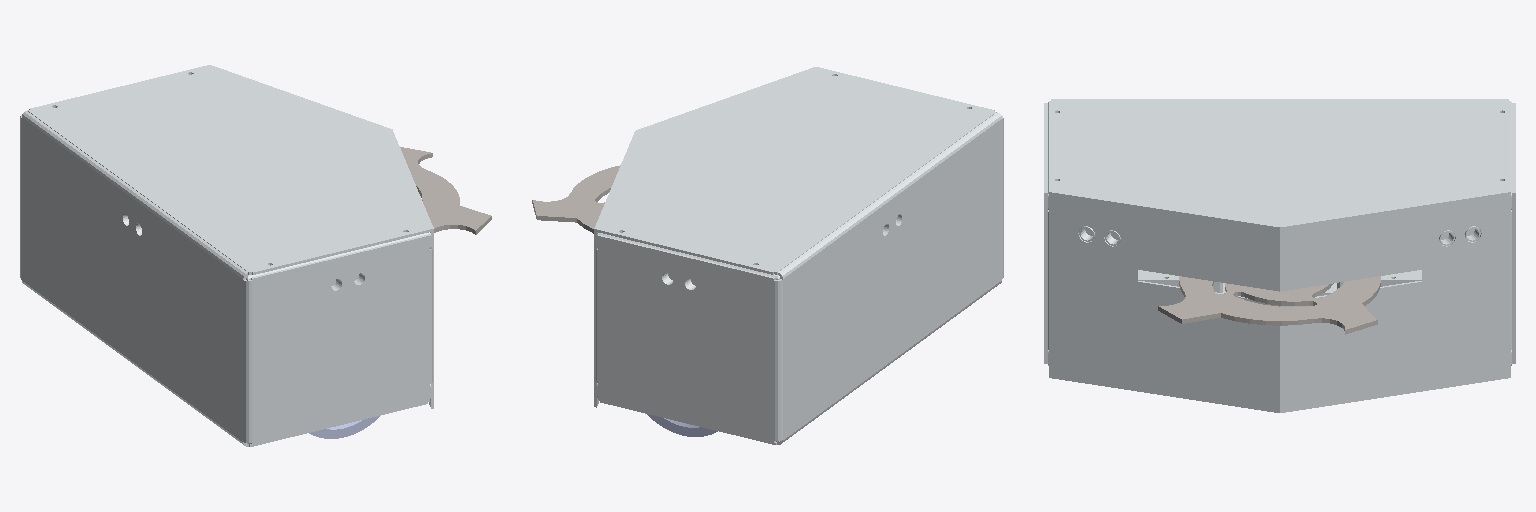
The robot description file, URDF, robot "r6_2020":
<?xml version="1.0" encoding="utf-8"?>
<!-- This URDF was automatically created by SolidWorks to URDF Exporter! Originally created by [author] ([email redacted]) 
     Commit Version: 1.6.0-1-g15f4949  Build Version: 1.6.7594.29634
     For more information, please see http://wiki.ros.org/sw_urdf_exporter -->
<robot
  name="r6_2020">
  <link
    name="base_link">
    <inertial>
      <origin
        xyz="0.035278 -9.6512E-07 0.10376"
        rpy="0 0 0" />
      <mass
        value="9.337" />
      <inertia
        ixx="0.1153"
        ixy="-4.5578E-07"
        ixz="0.011207"
        iyy="0.053236"
        iyz="-1.3817E-07"
        izz="0.1317" />
    </inertial>
    <visual>
      <origin
        xyz="0 0 0"
        rpy="0 0 0" />
      <geometry>
        <mesh
          filename="package://r6_2020/meshes/base_link.STL" />
      </geometry>
      <material
        name="">
        <color
          rgba="0.89804 0.91765 0.92941 1" />
      </material>
    </visual>
    <collision>
      <origin
        xyz="0 0 0"
        rpy="0 0 0" />
      <geometry>
        <mesh
          filename="package://r6_2020/meshes/base_link.STL" />
      </geometry>
    </collision>
  </link>
  <link
    name="wheel_left_link">
    <inertial>
      <origin
        xyz="0 -0.00080113 0"
        rpy="0 0 0" />
      <mass
        value="0.18293" />
      <inertia
        ixx="0.00023794"
        ixy="-9.603E-20"
        ixz="7.0834E-21"
        iyy="0.00047128"
        iyz="-3.4036E-20"
        izz="0.00023794" />
    </inertial>
    <visual>
      <origin
        xyz="0 0 0"
        rpy="0 0 0" />
      <geometry>
        <mesh
          filename="package://r6_2020/meshes/wheel_left_link.STL" />
      </geometry>
      <material
        name="">
        <color
          rgba="0.79216 0.81961 0.93333 1" />
      </material>
    </visual>
    <collision>
      <origin
        xyz="0 0 0"
        rpy="0 0 0" />
      <geometry>
        <mesh
          filename="package://r6_2020/meshes/wheel_left_link.STL" />
      </geometry>
    </collision>
  </link>
  <joint
    name="wheel_left_joint"
    type="continuous">
    <origin
      xyz="0.0185 0.19913 0.07006"
      rpy="0 0 0" />
    <parent
      link="base_link" />
    <child
      link="wheel_left_link" />
    <axis
      xyz="0 1 0" />
  </joint>
  <link
    name="wheel_right_link">
    <inertial>
      <origin
        xyz="0 0.00080113 -1.3878E-17"
        rpy="0 0 0" />
      <mass
        value="0.18293" />
      <inertia
        ixx="0.00023794"
        ixy="-5.2491E-21"
        ixz="-2.4128E-22"
        iyy="0.00047128"
        iyz="-3.4218E-19"
        izz="0.00023794" />
    </inertial>
    <visual>
      <origin
        xyz="0 0 0"
        rpy="0 0 0" />
      <geometry>
        <mesh
          filename="package://r6_2020/meshes/wheel_right_link.STL" />
      </geometry>
      <material
        name="">
        <color
          rgba="0.79216 0.81961 0.93333 1" />
      </material>
    </visual>
    <collision>
      <origin
        xyz="0 0 0"
        rpy="0 0 0" />
      <geometry>
        <mesh
          filename="package://r6_2020/meshes/wheel_right_link.STL" />
      </geometry>
    </collision>
  </link>
  <joint
    name="wheel_right_joint"
    type="continuous">
    <origin
      xyz="0.01846 -0.19913 0.07"
      rpy="0 0 0" />
    <parent
      link="base_link" />
    <child
      link="wheel_right_link" />
    <axis
      xyz="0 1 0" />
  </joint>
  <link
    name="weapon_link">
    <inertial>
      <origin
        xyz="-8.3267E-17 1.1967E-16 -0.0025"
        rpy="0 0 0" />
      <mass
        value="1.2786" />
      <inertia
        ixx="0.0043475"
        ixy="3.2022E-18"
        ixz="-1.1065E-18"
        iyy="0.0043475"
        iyz="-5.677E-20"
        izz="0.0086897" />
    </inertial>
    <visual>
      <origin
        xyz="0 0 0"
        rpy="0 0 0" />
      <geometry>
        <mesh
          filename="package://r6_2020/meshes/weapon_link.STL" />
      </geometry>
      <material
        name="">
        <color
          rgba="0.77647 0.75686 0.73725 1" />
      </material>
    </visual>
    <collision>
      <origin
        xyz="0 0 0"
        rpy="0 0 0" />
      <geometry>
        <mesh
          filename="package://r6_2020/meshes/weapon_link.STL" />
      </geometry>
    </collision>
  </link>
  <joint
    name="weapon_joint"
    type="continuous">
    <origin
      xyz="0.15788 0.0001548 0.15076"
      rpy="0 0 0" />
    <parent
      link="base_link" />
    <child
      link="weapon_link" />
    <axis
      xyz="0 0 -1" />
  </joint>
</robot>

--- What the picture shows (computed from the rendered views, not written in the file) ---
Views: 3 orthographic renders of the robot side by side, from view 1: azimuth 30°, elevation 25°; view 2: azimuth 150°, elevation 25°; view 3: azimuth 270°, elevation 25°.
Robot: r6_2020 — 4 links, 3 joints (3 continuous); root link base_link; default pose: all joints at 0.
Links seen in each view (by area): view 1: base_link, weapon_link, wheel_right_link; view 2: base_link, weapon_link, wheel_left_link; view 3: base_link, weapon_link.
Link boxes in pixels (<box>): base_link: <box>20,65,433,446</box>; weapon_link: <box>400,147,491,234</box>; wheel_right_link: <box>309,416,379,438</box>; base_link: <box>594,67,1003,444</box>; weapon_link: <box>532,165,620,233</box>; wheel_left_link: <box>647,414,717,436</box>; base_link: <box>1044,99,1515,412</box>; weapon_link: <box>1158,276,1380,334</box>.
Bounding box of the posed robot: 0.3918 × 0.466 × 0.223 m (x, y, z).
Meshes: 4 distinct files referenced, 4 mesh visuals loaded (4 binary STL).
